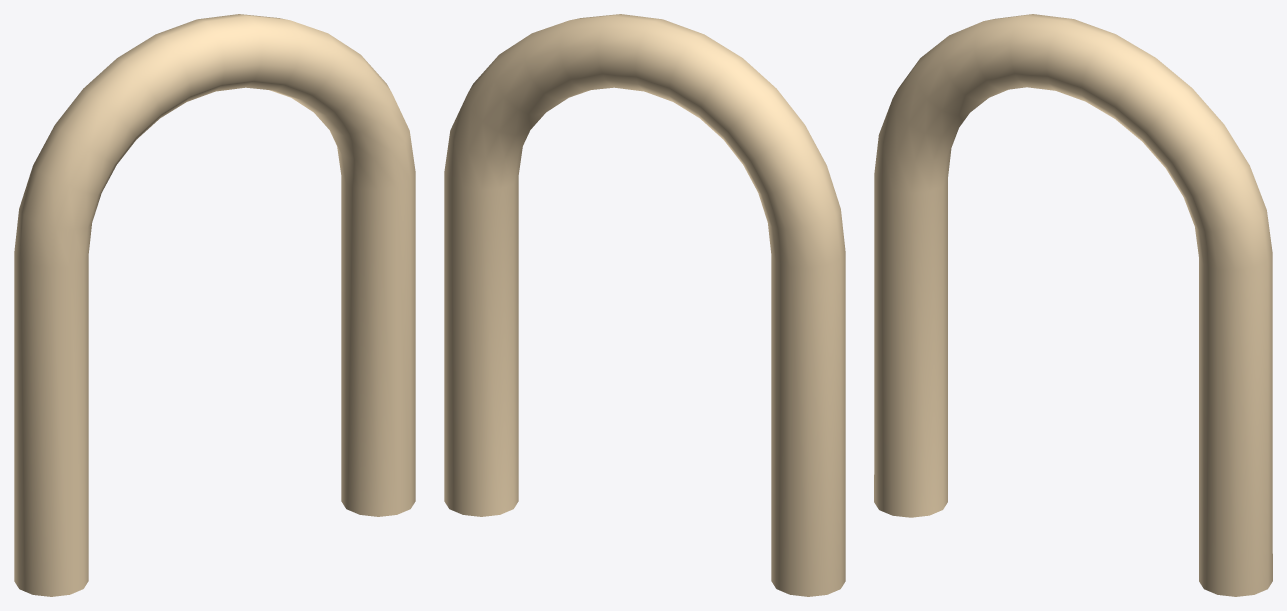
3 views of the same model, side by side, from view 1: azimuth 30°, elevation 25°; view 2: azimuth 150°, elevation 25°; view 3: azimuth 330°, elevation 25° (orthographic).
Parts seen in each view (by area): view 1: SM_Retractable_fall .001; view 2: SM_Retractable_fall .001; view 3: SM_Retractable_fall .001.
Part boxes in pixels (x1=…): SM_Retractable_fall .001: x1=14, y1=14, x2=415, y2=596; SM_Retractable_fall .001: x1=444, y1=14, x2=845, y2=596; SM_Retractable_fall .001: x1=874, y1=14, x2=1272, y2=596.
Size of the model in its own units: 9.47 by 12.07 by 1.56.
